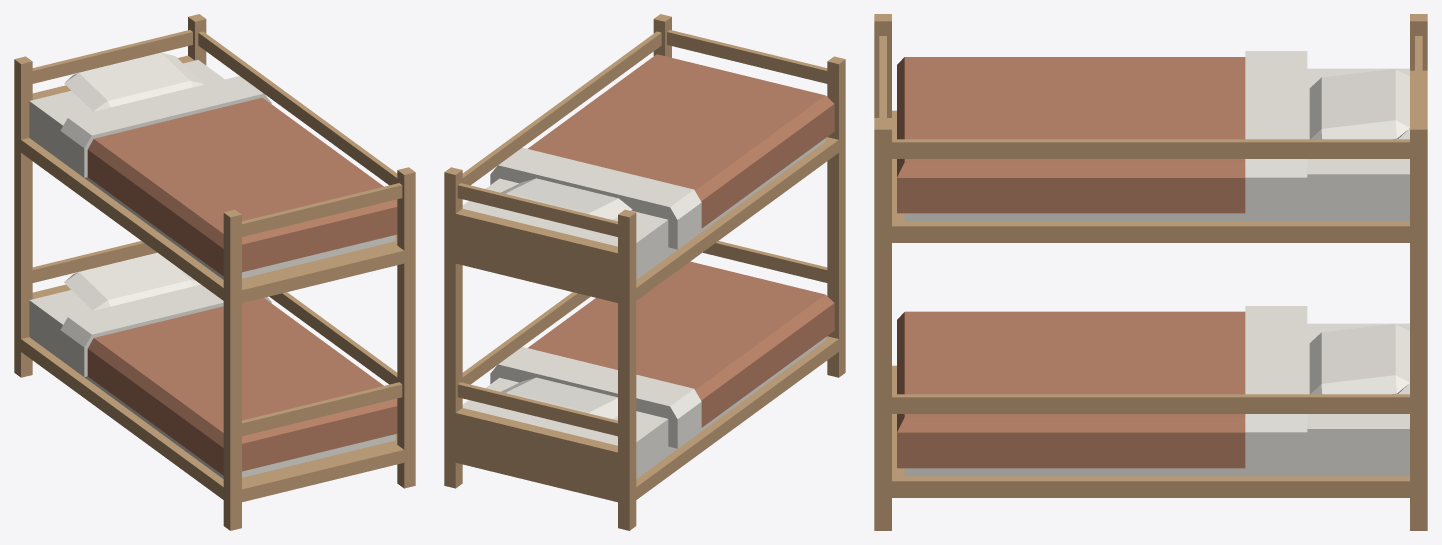
Rendered from bed-bunk.glb.
3 views of the same model, side by side, from view 1: azimuth 30°, elevation 25°; view 2: azimuth 150°, elevation 25°; view 3: azimuth 270°, elevation 25° (orthographic). The views are drawn at different scales.
Visible parts, largest first — view 1: bed-bunk; view 2: bed-bunk; view 3: bed-bunk.
Boxes of the visible parts, left/top/right/bottom form: bed-bunk: left=14, top=14, right=415, bottom=530; bed-bunk: left=444, top=14, right=845, bottom=530; bed-bunk: left=874, top=14, right=1427, bottom=530.
Size of the model in its own units: 1 by 1.6 by 2.
